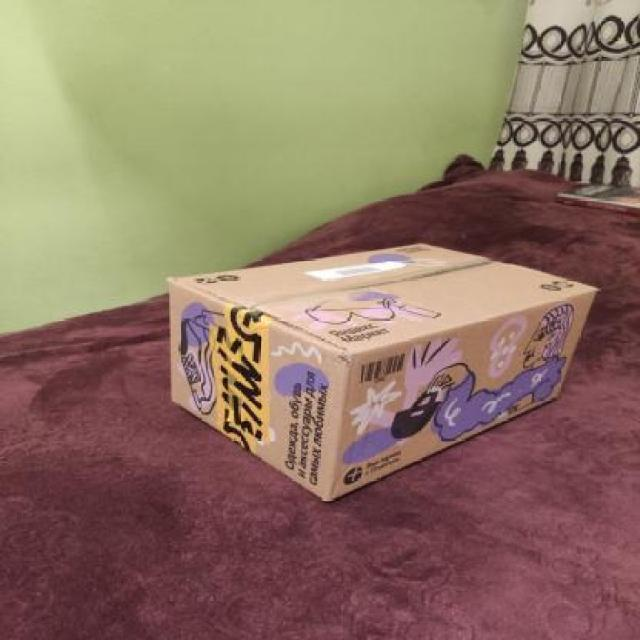box: (154, 232, 598, 500)
